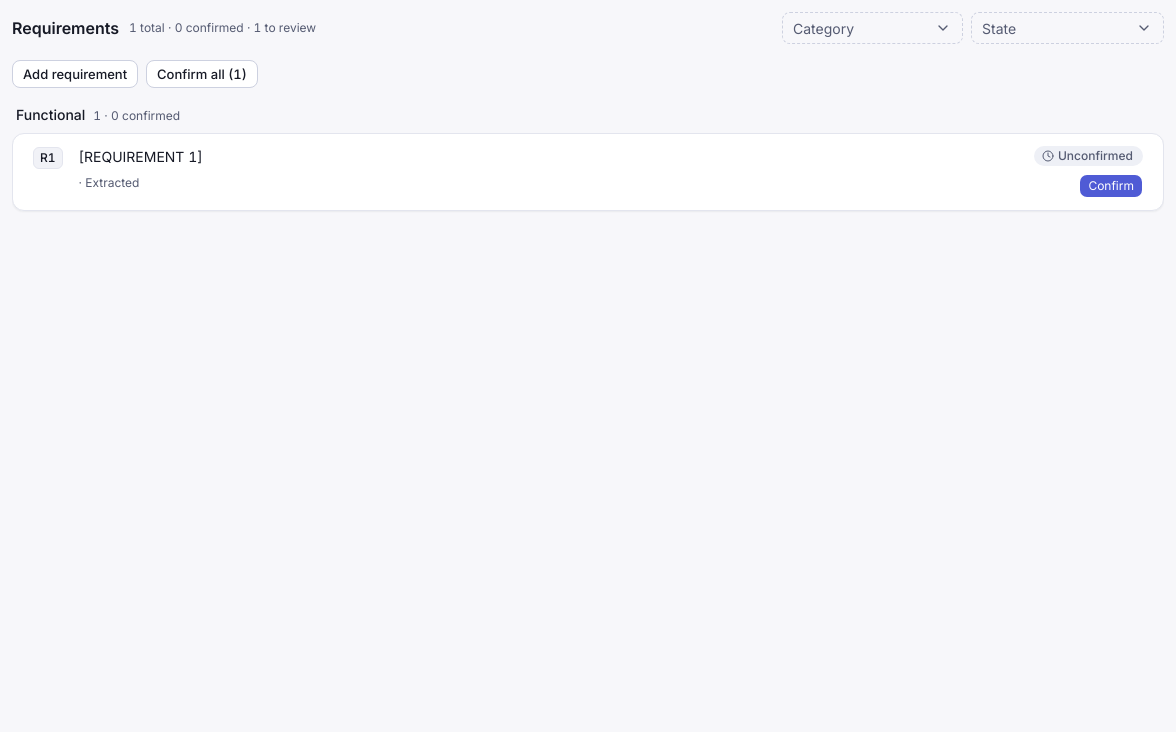
the inspector › saves the text edited in the inspector
Click the button "[REQUIREMENT 1]" at (141, 156), box top-left (79, 146), bottom-right (1018, 167)
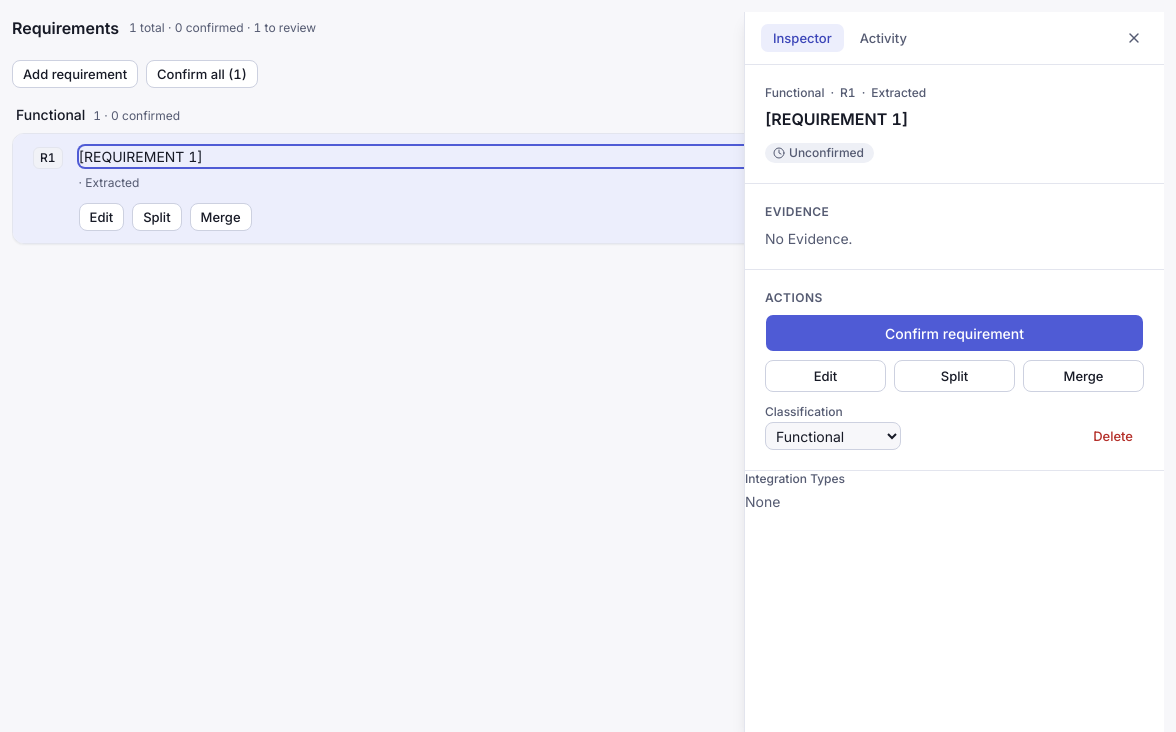
Click the button named "Edit Requirement text" at (954, 119), box top-left (765, 107), bottom-right (1144, 131)
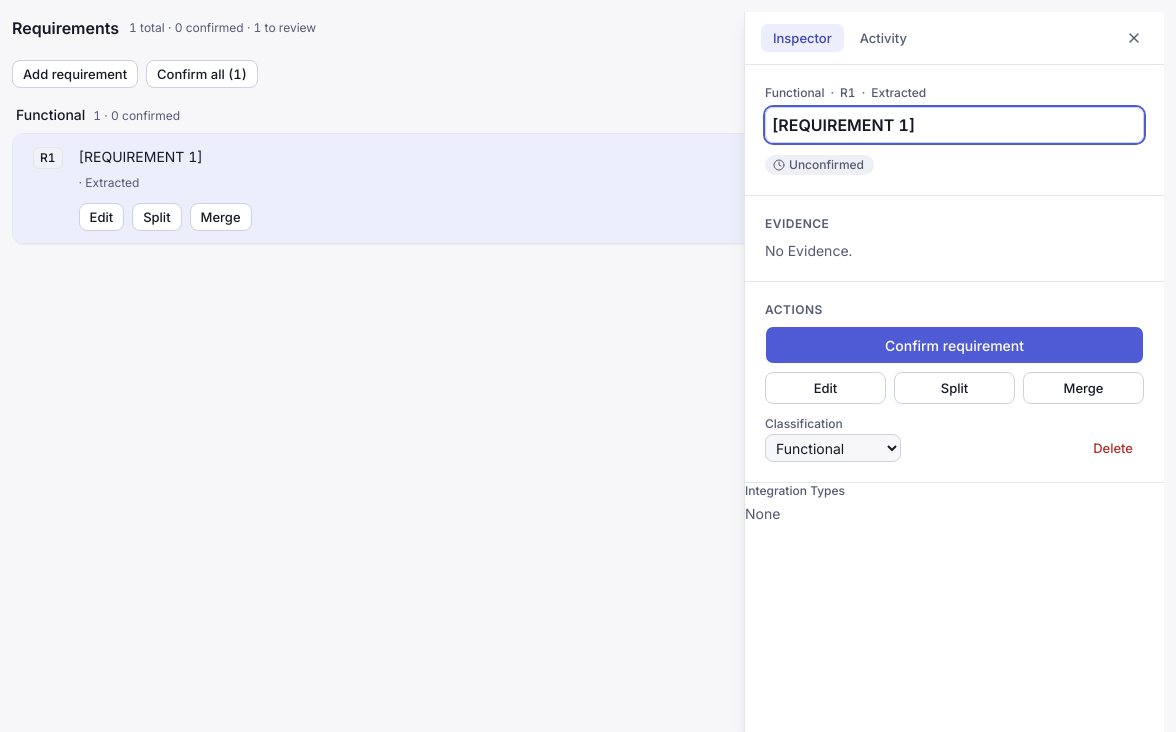
Replace the text in the field named "Requirement text" with "Inspector wording." at (954, 125), box top-left (765, 107), bottom-right (1144, 143)
Then press Enter
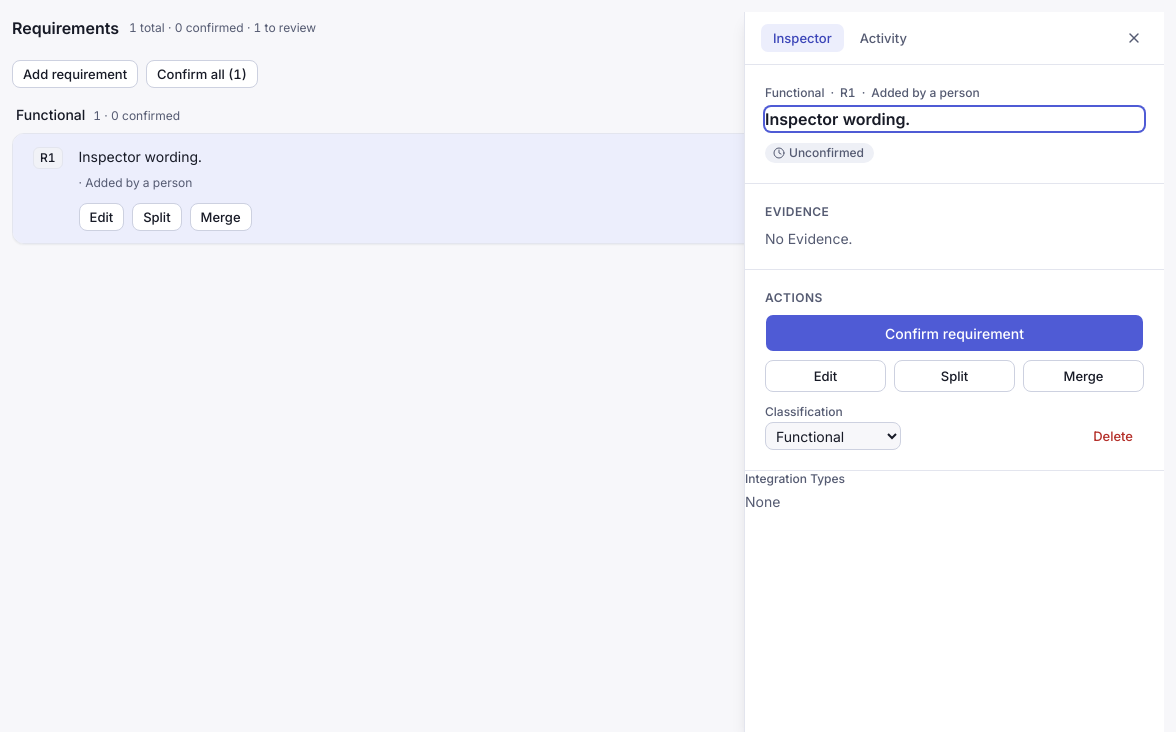
Now the heading "Inspector wording." is shown, box top-left (765, 109), bottom-right (910, 129)
